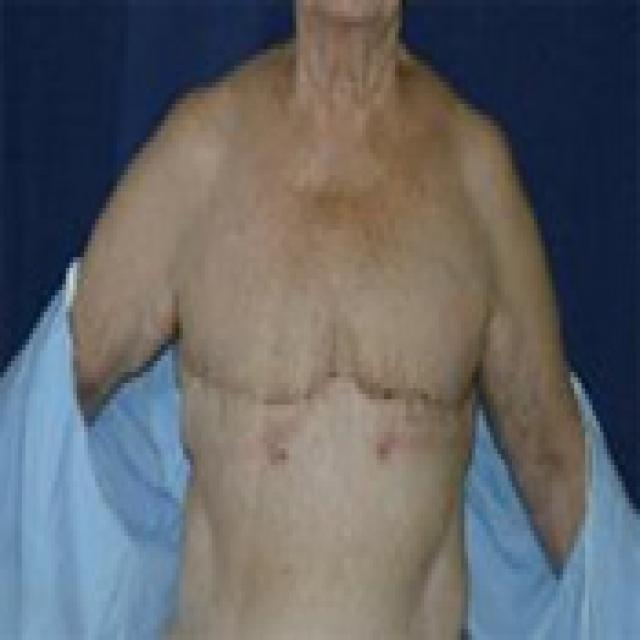Seno herido: (176, 266, 339, 445), (348, 263, 481, 444)
